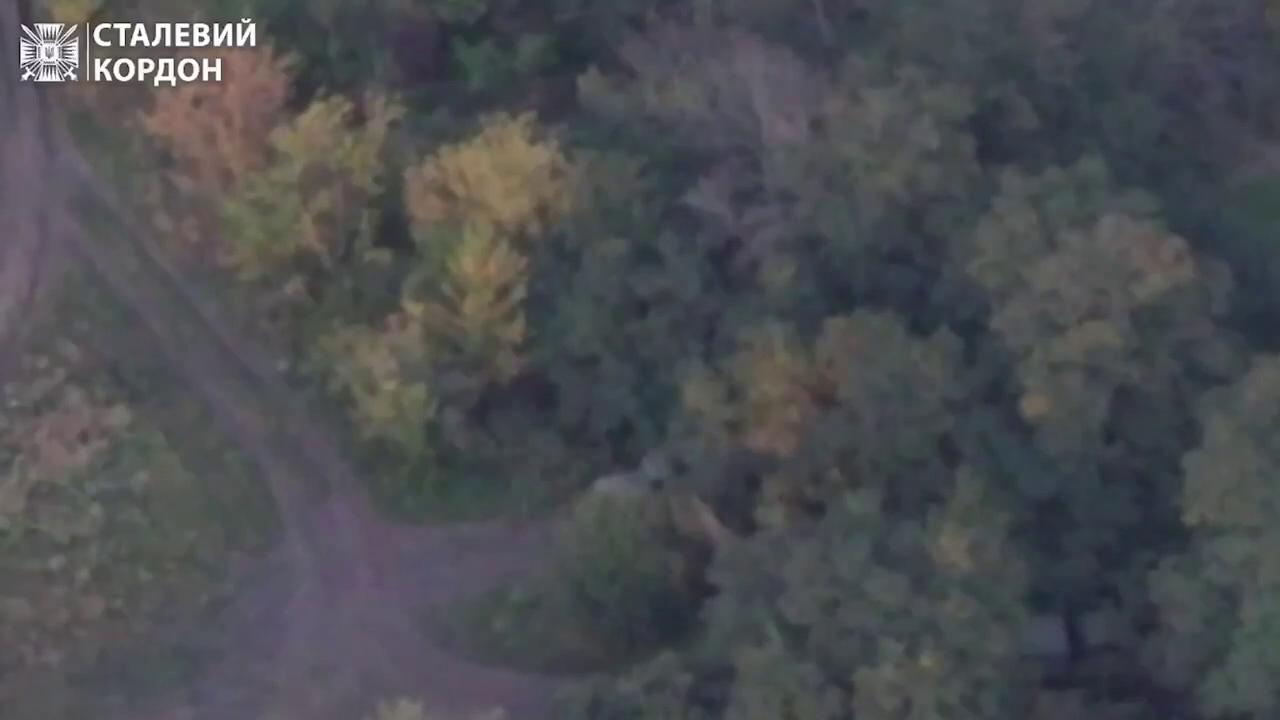tank: (575, 441, 702, 546)
